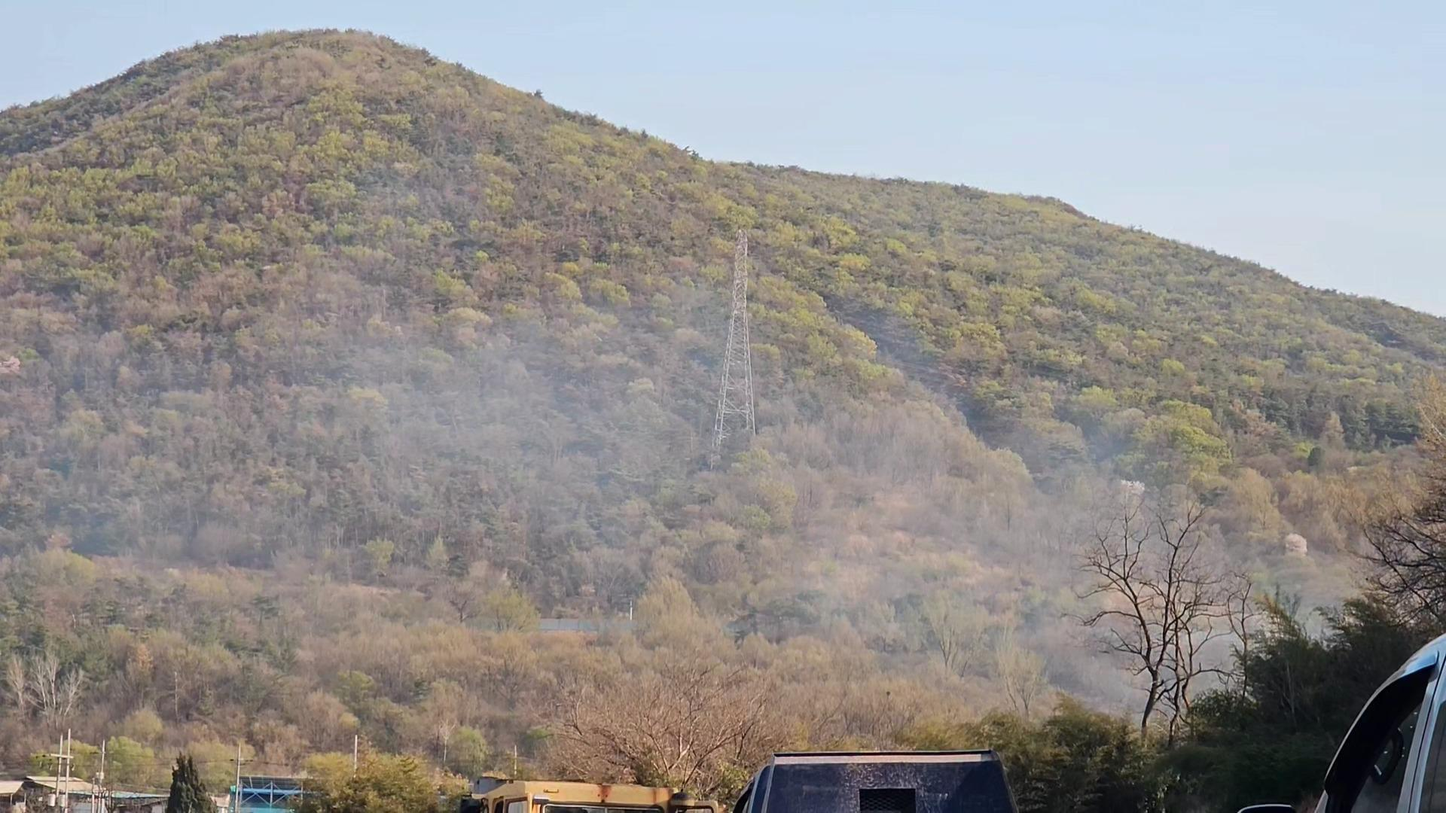smoke: (462, 336, 1343, 718)
